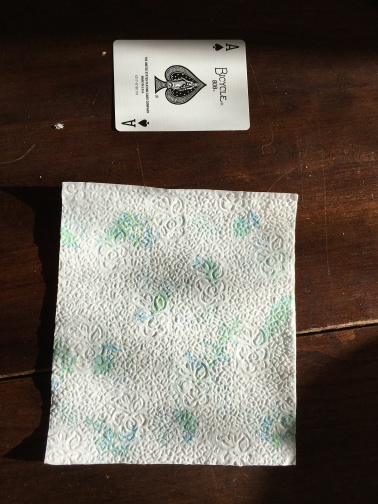ace: (111, 36, 252, 133)
